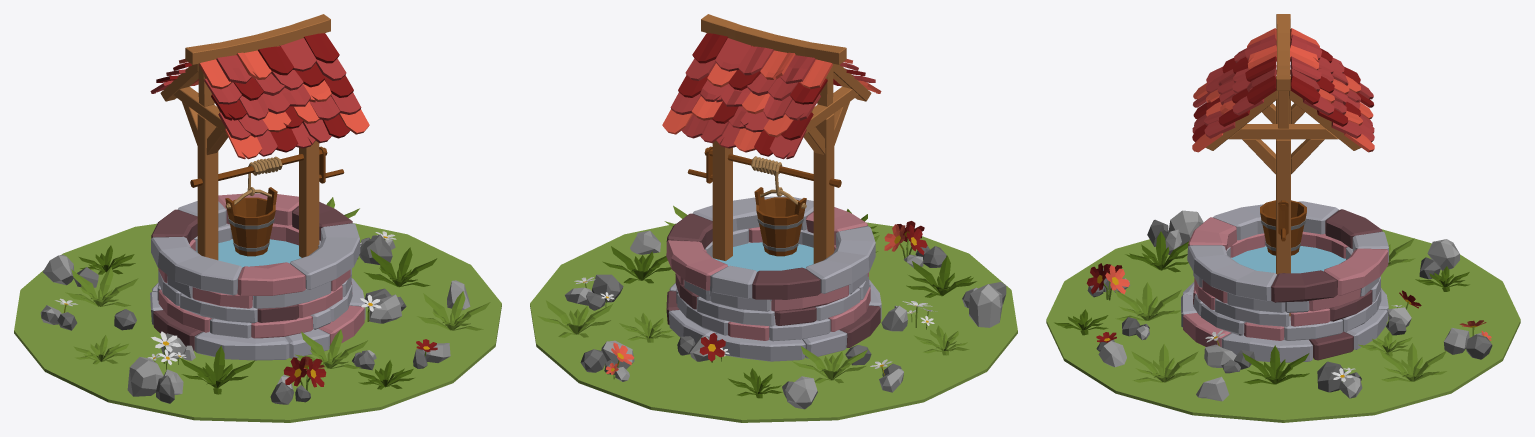
The model's file is Well.glb.
3 renders of one model, left to right at view 1: azimuth 30°, elevation 25°; view 2: azimuth 150°, elevation 25°; view 3: azimuth 270°, elevation 25°, orthographic. The views are drawn at different scales.
Visible parts, largest first — view 1: Well; view 2: Well; view 3: Well.
Part boxes in pixels (x1,y1,x2,y2): Well: (14,14,501,422); Well: (530,14,1017,422); Well: (1046,14,1520,422).
Size of the model in its own units: 21.36 by 13.73 by 21.36.
